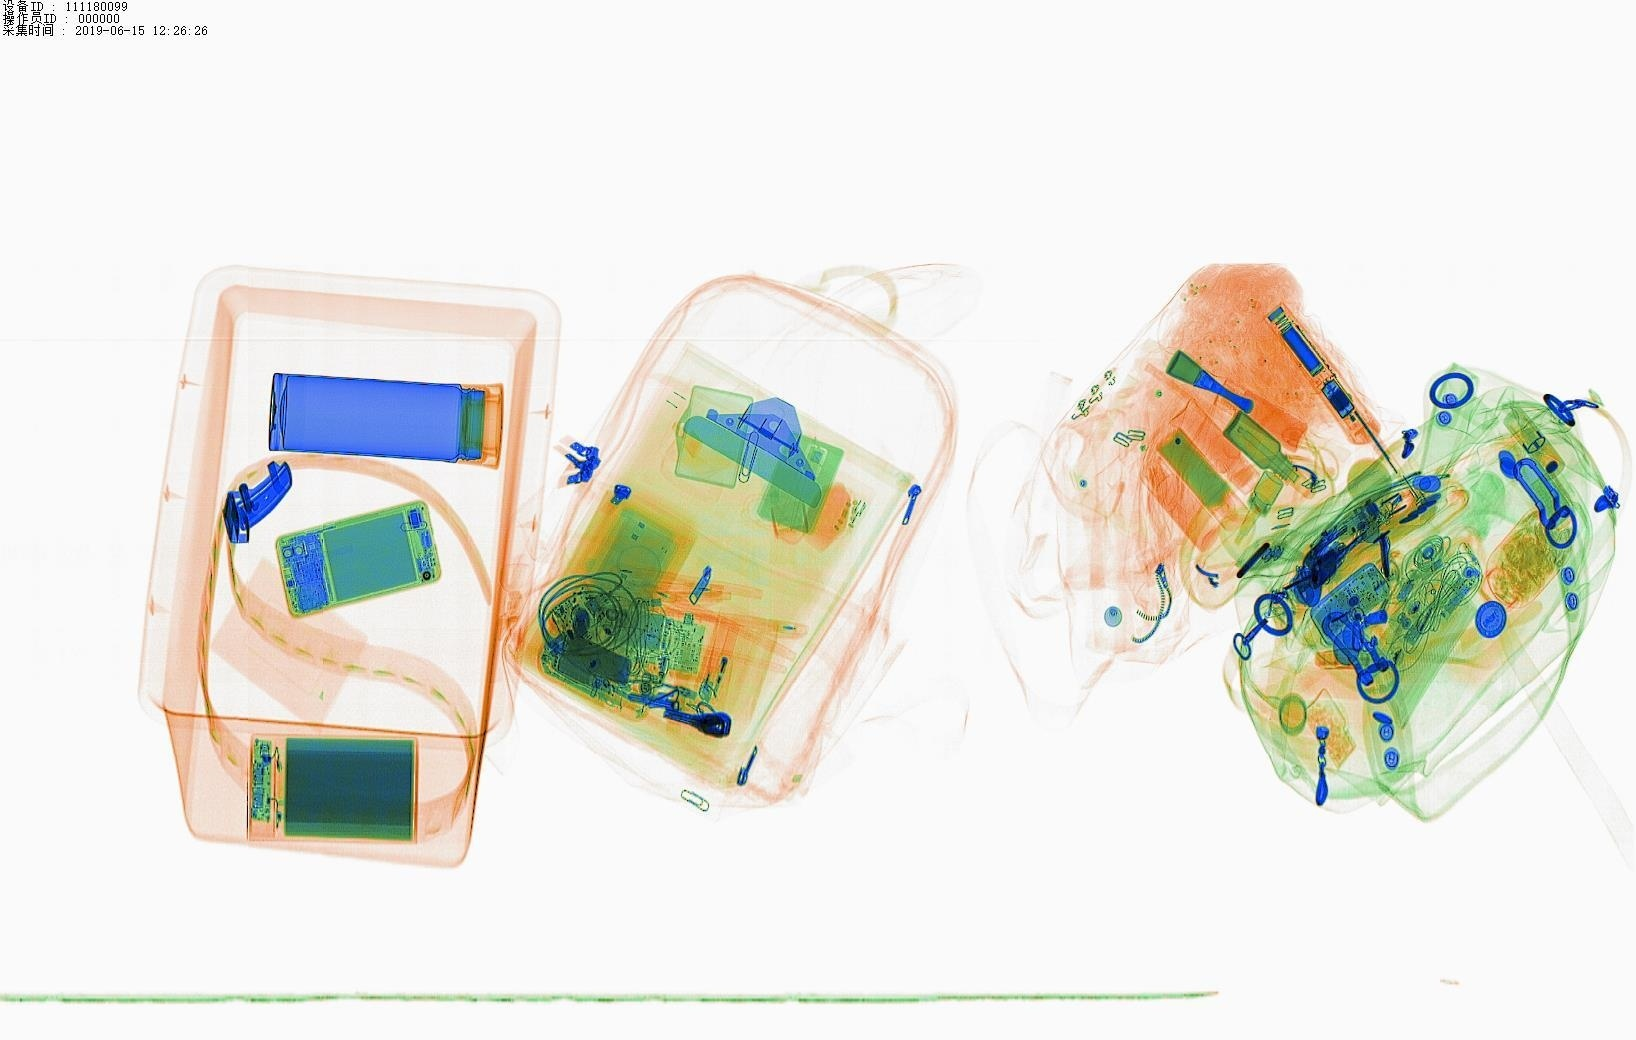NonmetallicFire: (698, 608, 752, 712)
